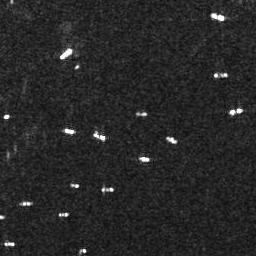ship: (59, 48, 73, 61), (92, 131, 107, 142), (210, 11, 225, 22), (229, 106, 243, 117), (213, 71, 228, 79), (63, 126, 76, 135), (19, 200, 34, 207), (134, 110, 148, 117), (3, 240, 15, 248), (101, 186, 114, 193), (166, 136, 177, 144), (57, 211, 69, 218), (3, 112, 11, 121), (70, 182, 79, 189), (139, 156, 149, 162)
